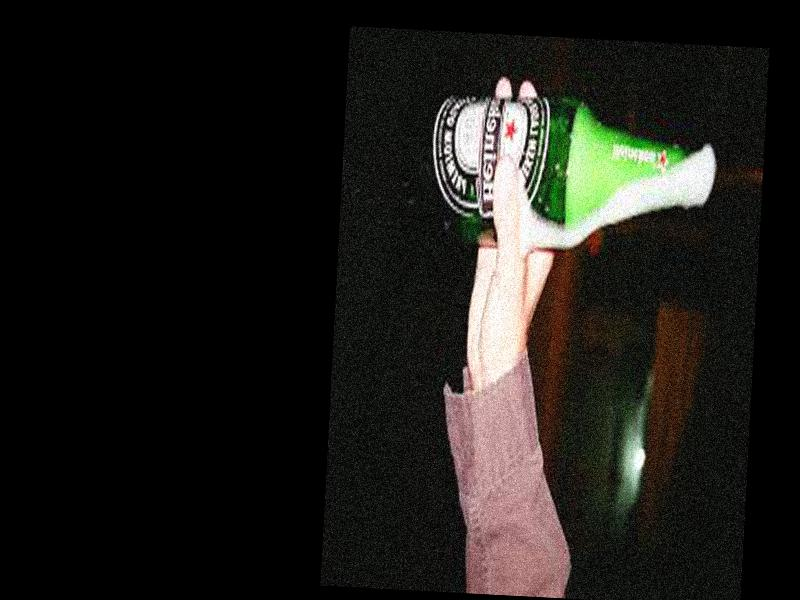Beer: (420, 85, 705, 258)
